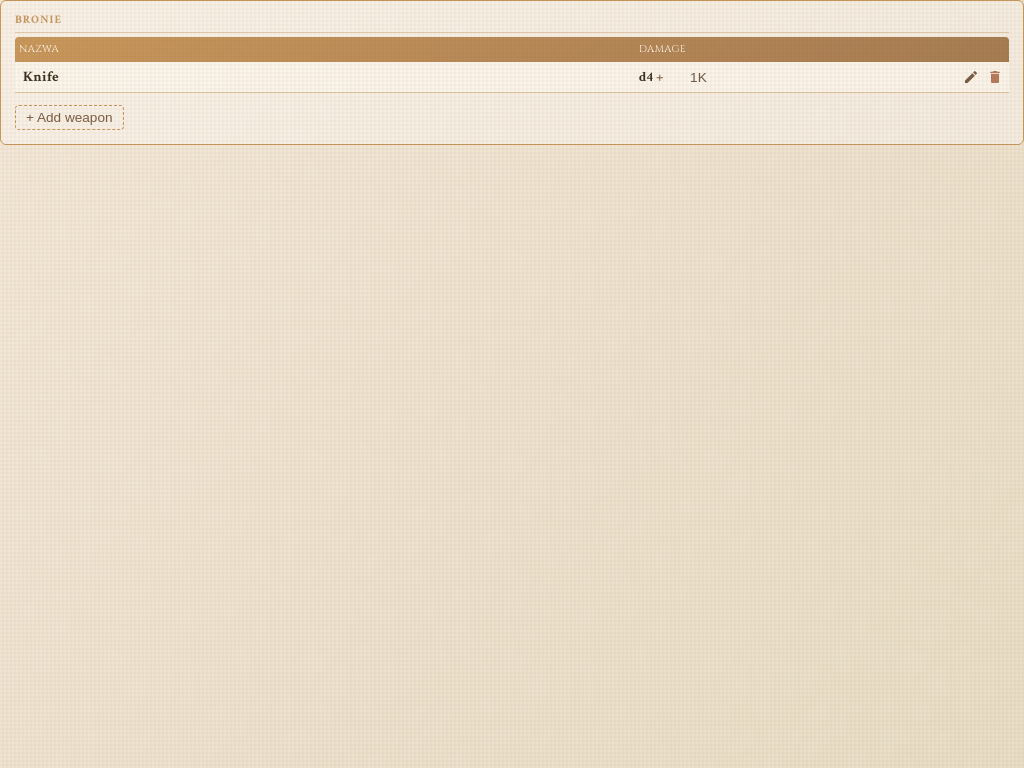
Test: CustomSheetBody weapons_table — player damage expression field › an invalid player field is marked and explains itself on hover
Click the button with class "custom-sheet__row-table-edit" at (971, 77), box [961, 67, 981, 87]
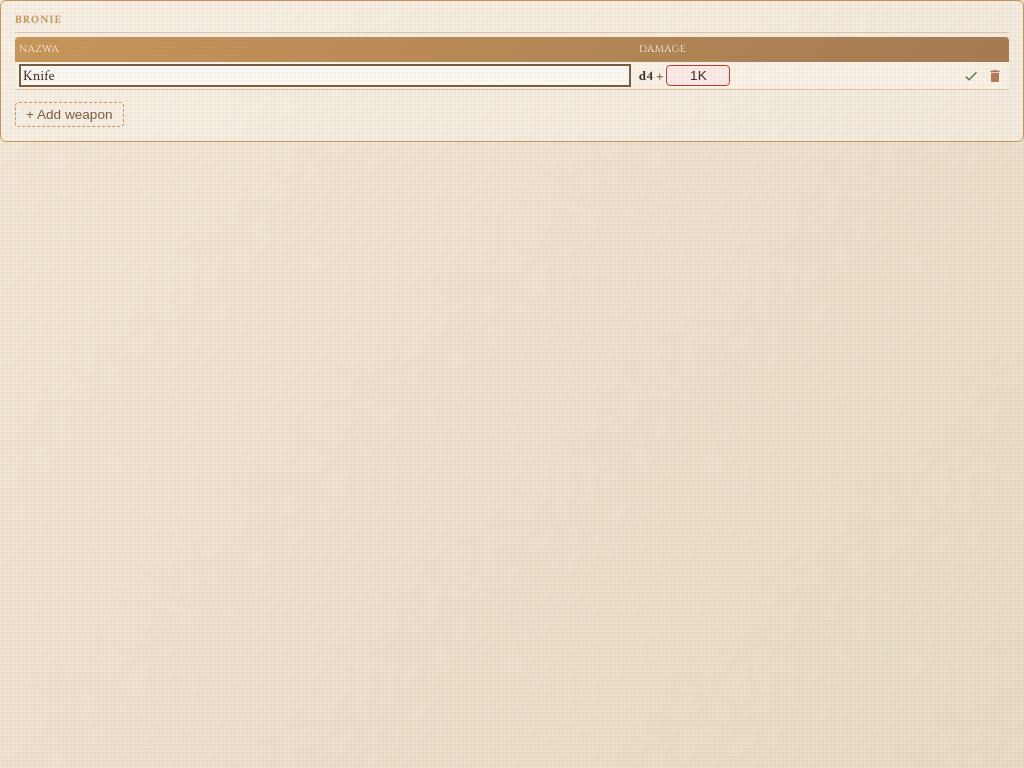
Hover over the 2nd field showing "1K" at (698, 76), box [666, 65, 730, 86]
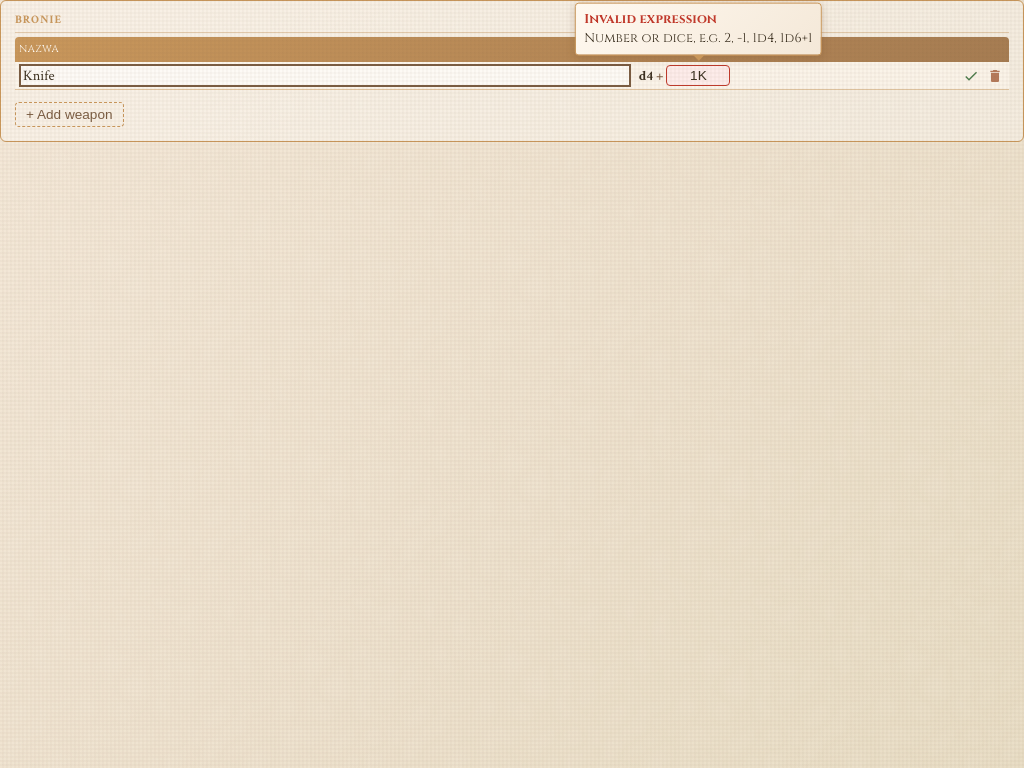
Now the text "Invalid expression" is shown, box [584, 11, 717, 28]
